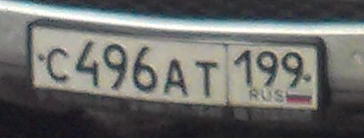character: (132, 44, 159, 94), (103, 42, 129, 93), (192, 59, 220, 101), (76, 40, 101, 86), (163, 59, 191, 100), (44, 46, 72, 83), (256, 50, 281, 88), (282, 51, 304, 92), (235, 47, 256, 87)
